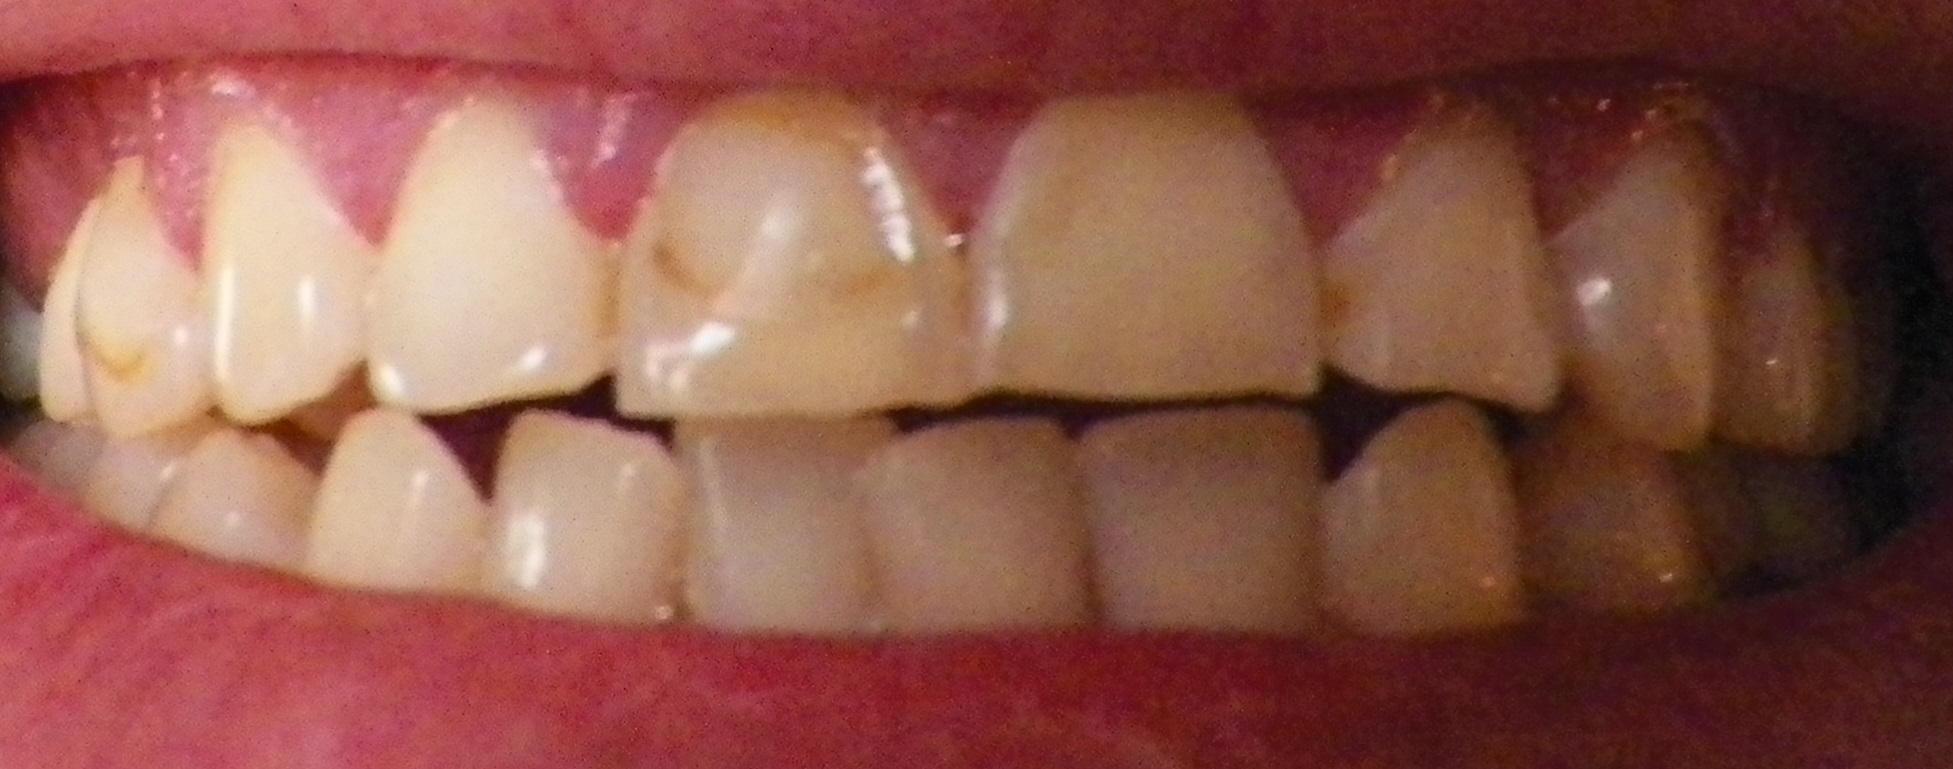boca: (39, 110, 1875, 639)
